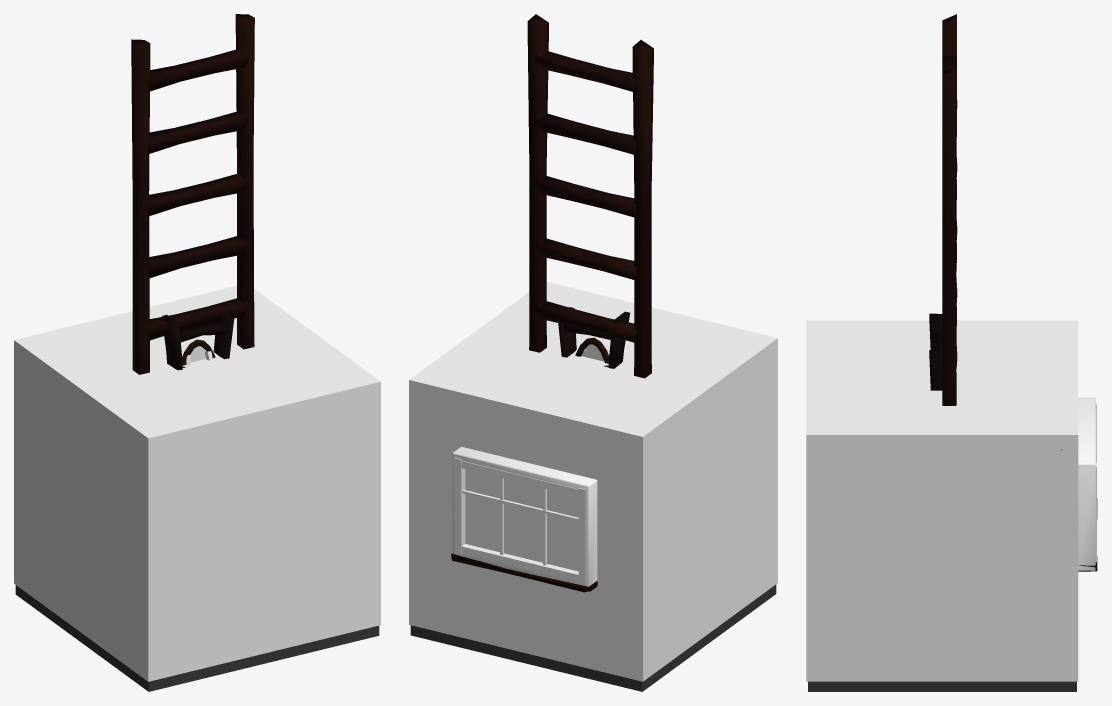
Rendered from cube_diorama.glb.
3 renders of one model, left to right at view 1: azimuth 30°, elevation 25°; view 2: azimuth 150°, elevation 25°; view 3: azimuth 270°, elevation 25°, orthographic.
Visible parts, largest first — view 1: Volume, Ladder, Ground Plate, Shelf; view 2: Volume, Ladder, Wall1, Ground Plate, Shelf, Cube.008, Cube.006, Cube.007, Window Board, Cube.003; view 3: Volume, Ladder, Wall1, Ground Plate, Shelf.
Boxes of the visible parts, <box> form: Volume: <box>14,285,380,681</box>; Ladder: <box>131,14,254,374</box>; Ground Plate: <box>15,585,379,691</box>; Shelf: <box>162,314,234,370</box>; Volume: <box>409,282,777,681</box>; Ladder: <box>527,14,653,378</box>; Wall1: <box>452,446,597,591</box>; Ground Plate: <box>410,584,776,691</box>; Shelf: <box>558,307,630,368</box>; Cube.008: <box>461,544,578,581</box>; Cube.006: <box>454,457,465,554</box>; Cube.007: <box>461,461,578,496</box>; Window Board: <box>451,553,597,592</box>; Cube.003: <box>578,488,585,584</box>; Volume: <box>806,320,1078,681</box>; Ladder: <box>942,14,957,405</box>; Wall1: <box>1078,397,1095,570</box>; Ground Plate: <box>808,681,1076,691</box>; Shelf: <box>929,313,942,390</box>.
Bounding box in the file's own units: 2.02 × 4.85 × 2.16.
Materials: 47 (9 with a texture image).
